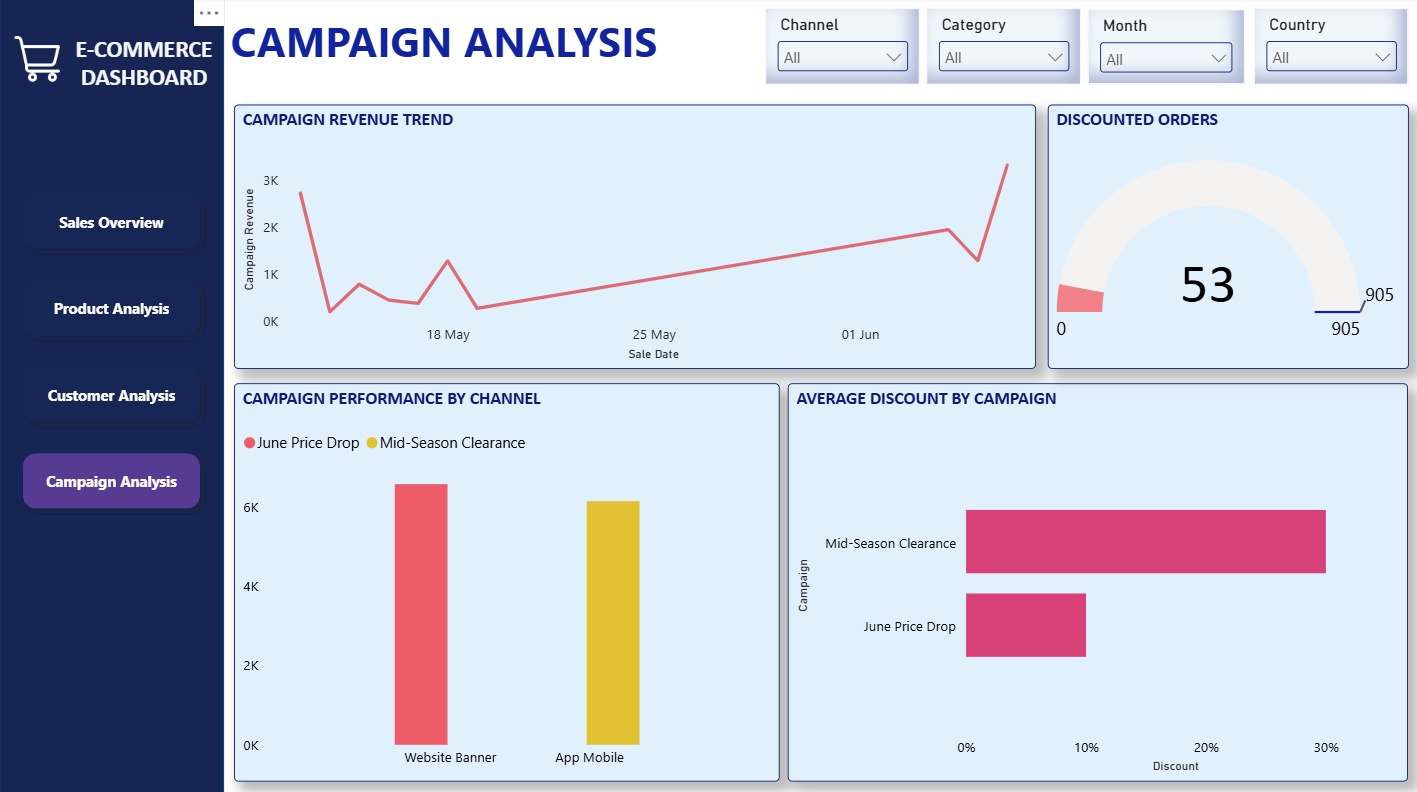

What the dashboard file says about the page in this screenshot:
{"tool":"powerbi","page":{"name":"Campaign Analysis","canvas":[1280,720],"ordinal":3},"visuals":[{"type":"shape","box":[0,0,203.5,719.8],"z":0,"group":"g1"},{"type":"slicer","fields":{"Values":["Store Sales.Channel"]},"box":[690.7,10.5,139.4,68.6],"z":0,"group":"g2"},{"type":"lineChart","title":"CAMPAIGN REVENUE TREND","fields":{"Y":["KPIMeasures.Campaign Revenue"],"Category":["Fact Campaign Sales.sale_date.Variation.Date Hierarchy.Year","Fact Campaign Sales.sale_date.Variation.Date Hierarchy.Quarter","Fact Campaign Sales.sale_date.Variation.Date Hierarchy.Month","Fact Campaign Sales.sale_date.Variation.Date Hierarchy.Day"]},"box":[211.6,96.5,723.3,238.4],"z":0},{"type":"slicer","fields":{"Values":["Store Products.Category"]},"box":[836,10.5,139.4,68.6],"z":1000,"group":"g2"},{"type":"pageNavigator","box":[12.4,167.9,178.1,302.1],"z":1000,"group":"g1"},{"type":"clusteredColumnChart","title":"CAMPAIGN PERFORMANCE BY CHANNEL","fields":{"Category":["Fact Campaign Sales.campaign_channel"],"Y":["KPIMeasures.Campaign Revenue"],"Series":["Fact Campaign Sales.campaign_name"]},"box":[211.6,348.8,491.9,359.3],"z":1000},{"type":"textbox","title":"E-COMMERCE DASHBOARD","box":[57,33.7,146.5,54.7],"z":2000,"group":"g1"},{"type":"slicer","fields":{"Values":["Store Sales.Sale Date.Variation.Date Hierarchy.Month"]},"box":[1011.6,239.5,143.3,68.6],"z":2000},{"type":"slicer","fields":{"Values":["Store Sales.Country"]},"box":[1131.6,10.5,139.4,68.6],"z":3000,"group":"g2"},{"type":"image","box":[12.8,33.7,44.2,44.2],"z":3000,"group":"g1"},{"type":"barChart","title":"AVERAGE DISCOUNT BY CAMPAIGN","fields":{"Category":["Fact Campaign Sales.campaign_name"],"Y":["KPIMeasures.Average Discount %"]},"box":[711.6,348.8,559.3,359.3],"z":3000},{"type":"gauge","title":"DISCOUNTED ORDERS","fields":{"Y":["KPIMeasures.Discounted Orders"],"MaxValue":["KPIMeasures.Total Orders"],"TargetValue":["KPIMeasures.Total Orders"]},"box":[945.4,96.5,325.6,238.4],"z":4000},{"type":"group","id":"g1","title":"Group 1","box":[0,0,204,720.2],"z":5000},{"type":"textbox","box":[204,9.4,404.5,68],"z":6000},{"type":"slicer","fields":{"Values":["Store Sales.Sale Date.Variation.Date Hierarchy.Month"]},"box":[981.4,11.7,141.4,67.4],"z":6002,"group":"g2"},{"type":"group","id":"g2","title":"Group 2","box":[690.7,10.5,580.2,68.6],"z":7000}]}

Visuals, with their boxes on the page's 1280x720 design canvas (x1, y1, x2, y2). These are canvas units, not pixel positions in the 1417x792 screenshot, which may show the page scaled, cropped or inside an application window:
shape: BBox(0, 0, 204, 720)
slicer - Store Sales.Channel: BBox(691, 10, 830, 79)
"CAMPAIGN REVENUE TREND" lineChart: BBox(212, 96, 935, 335)
slicer - Store Products.Category: BBox(836, 10, 975, 79)
pageNavigator: BBox(12, 168, 190, 470)
"CAMPAIGN PERFORMANCE BY CHANNEL" clusteredColumnChart: BBox(212, 349, 704, 708)
"E-COMMERCE DASHBOARD" textbox: BBox(57, 34, 204, 88)
slicer - Store Sales.Sale Date.Variation.Date Hierarchy.Month: BBox(1012, 240, 1155, 308)
slicer - Store Sales.Country: BBox(1132, 10, 1271, 79)
image: BBox(13, 34, 57, 78)
"AVERAGE DISCOUNT BY CAMPAIGN" barChart: BBox(712, 349, 1271, 708)
"DISCOUNTED ORDERS" gauge: BBox(945, 96, 1271, 335)
"Group 1" group: BBox(0, 0, 204, 720)
textbox: BBox(204, 9, 608, 77)
slicer - Store Sales.Sale Date.Variation.Date Hierarchy.Month: BBox(981, 12, 1123, 79)
"Group 2" group: BBox(691, 10, 1271, 79)
